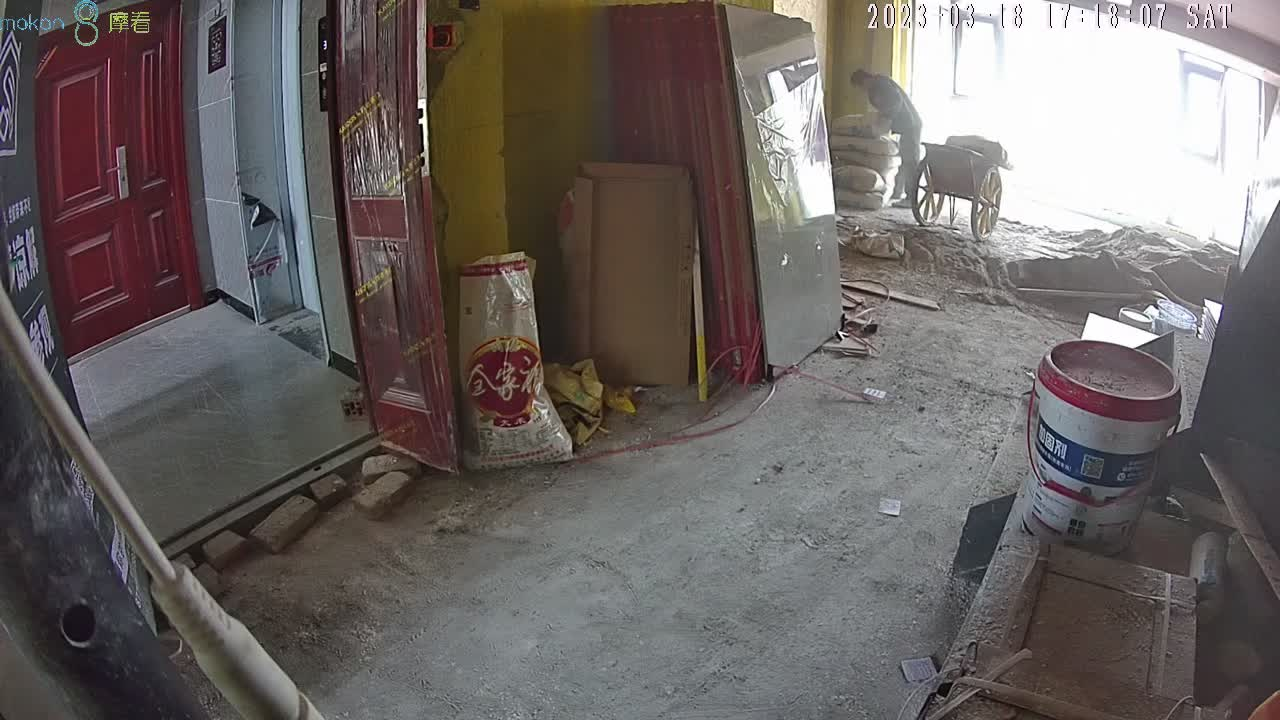people: (850, 66, 922, 209)
window: (925, 2, 1278, 233)
